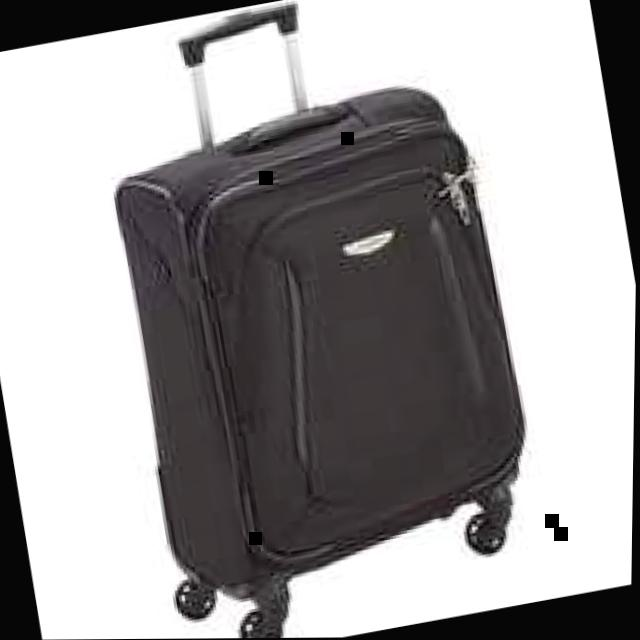luggage: (83, 60, 557, 614)
